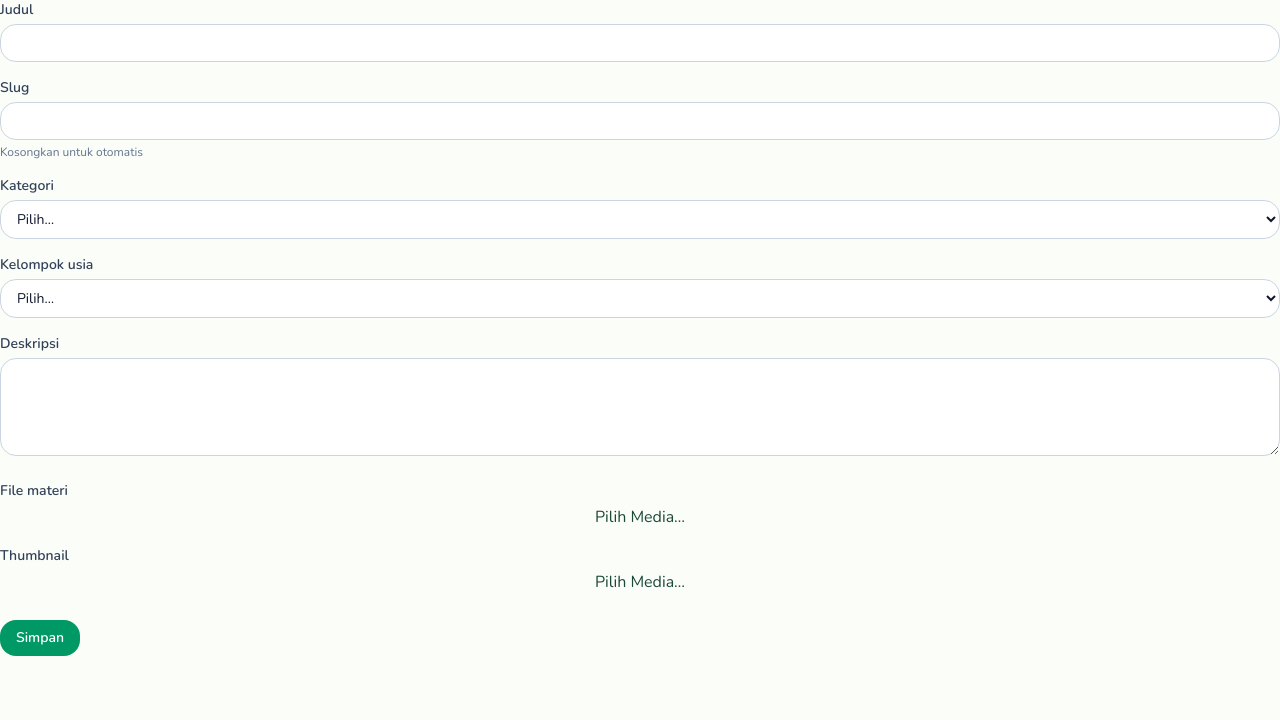
Test: EntityForm › filters the File materi picker to PDF assets only
This screenshot has width=1280, height=720.
Click the button named "File materi".
click(640, 517)  # box [0,505,1279,530]
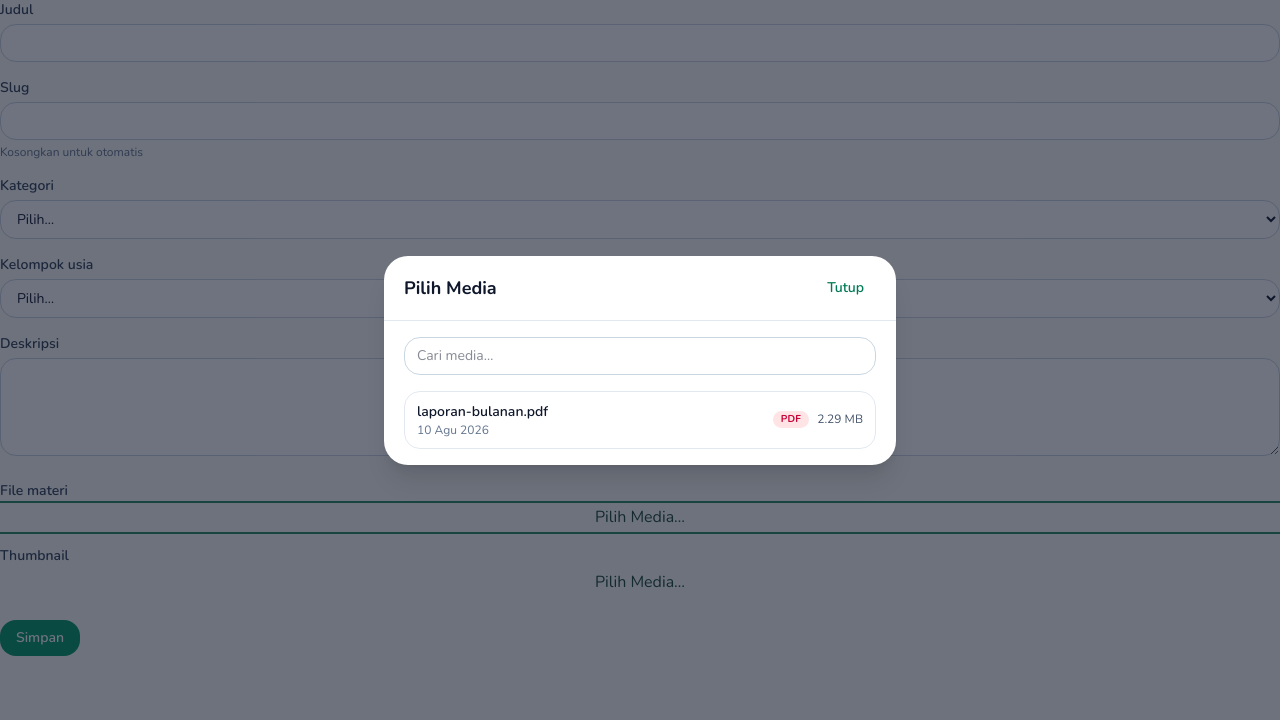
expect the text "laporan-bulanan.pdf" is shown: met, box [417,402,548,422]
